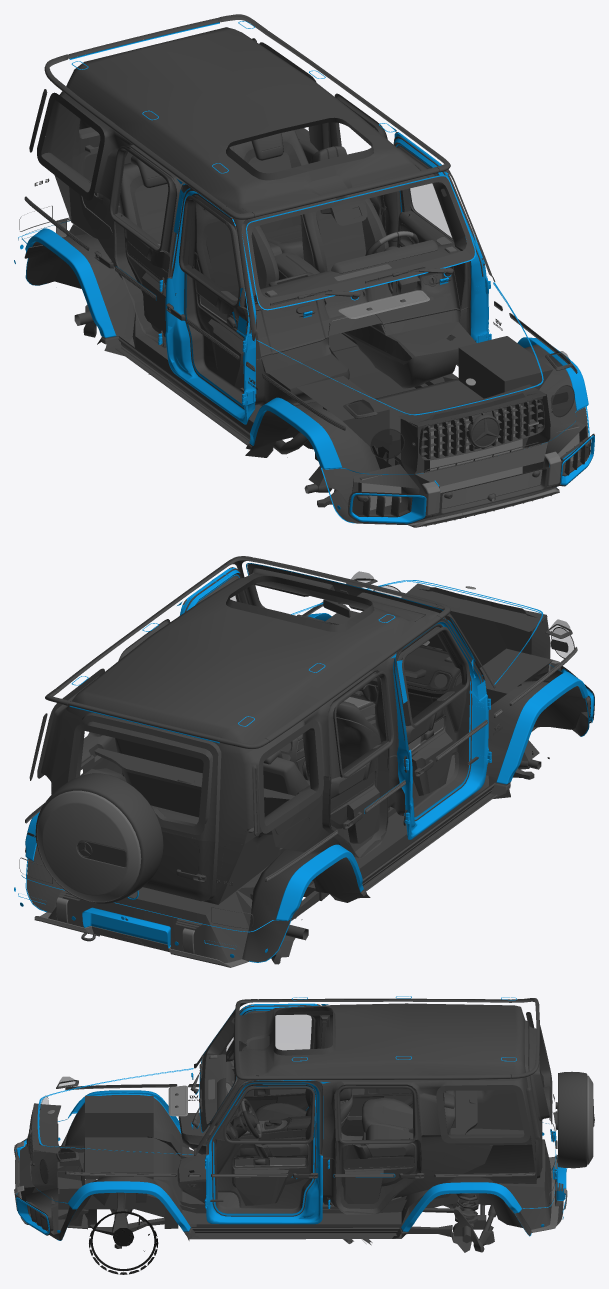
The model's file is Gelik1.glb.
The picture shows the model from 3 angles, top to bottom: view 1: azimuth 30°, elevation 25°; view 2: azimuth 150°, elevation 25°; view 3: azimuth 270°, elevation 25°; orthographic projection. The views are drawn at different scales.
Parts seen in each view (by area): view 1: M:D_Body_33_M:MAT_Details_MAT1_0, M:SM_FrontKit_0000_001_SM_FrontKit_0000_MAT_CarPaint_005_M:M, M:D_Body_30_M:MAT_Details_MAT1_0, M:SM_RearKit_0000_001_SM_RearKit_0000_MAT_CarPaint_008_M:MAT, M:D_Body_20_M:MAT_Details_MAT1_0, M:D_Body_38_M:MAT_Details_MAT1_0, M:D_Body_36_M:MAT_Details_MAT1_0, M:SM_RearKit_0000_001_SM_RearKit_0000_MAT_CarPaint_004_M:MA. (×5), M:D_Body_44_M:MAT_Details_MAT1_0, M:ANC_Door_R_17_M:MAT_Glass1_0.003, M:ANC_Door_R_52_M:MAT_CarPaint_010_0, M:SM_FrontKit_0000_001_SM_FrontKit_0000_MAT_CarPaint_004_M:M (+16 smaller); view 2: M:D_Body_33_M:MAT_Details_MAT1_0, M:SM_RearKit_0000_001_SM_RearKit_0000_MAT_CarPaint_008_M:MAT, M:D_Body_30_M:MAT_Details_MAT1_0, M:D_Body_36_M:MAT_Details_MAT1_0, M:SM_FrontKit_0000_001_SM_FrontKit_0000_MAT_CarPaint_005_M:M, carbon_M:MAT_Carbon1_0.150, M:D_Body_20_M:MAT_Details_MAT1_0, M:SM_RearKit_0000_001_SM_RearKit_0000_MAT_CarPaint_004_M:MA. (×3), M:D_Body_46_M:MAT_Details_MAT1_0, M:D_Body_38_M:MAT_Details_MAT1_0, M:ANC_Door_R_17_M:MAT_Glass1_0.003, M:D_Body_44_M:MAT_Details_MAT1_0 (+12 smaller); view 3: M:SM_RearKit_0000_001_SM_RearKit_0000_MAT_CarPaint_008_M:MAT, M:D_Body_30_M:MAT_Details_MAT1_0, M:D_Body_33_M:MAT_Details_MAT1_0, M:SM_FrontKit_0000_001_SM_FrontKit_0000_MAT_CarPaint_005_M:M, M:SM_Engine_0000_001_SM_Engine_0000_MAT_Details_MAT_001_M:MA, M:D_Body_20_M:MAT_Details_MAT1_0, M:SM_RearKit_0000_001_SM_RearKit_0000_MAT_CarPaint_004_M:MA. (×5), M:D_Body_36_M:MAT_Details_MAT1_0, M:D_Body_44_M:MAT_Details_MAT1_0, M:ANC_Door_L_77_M:MAT_Glass1_0, M:D_Body_38_M:MAT_Details_MAT1_0, M:ANC_Door_L_49_M:MAT_CarPaint_010_0 (+17 smaller).
Part boxes in pixels (bbox=[...]): M:D_Body_33_M:MAT_Details_MAT1_0: bbox=[41, 44, 476, 409]; M:SM_FrontKit_0000_001_SM_FrontKit_0000_MAT_CarPaint_005_M:M: bbox=[254, 313, 594, 524]; M:D_Body_30_M:MAT_Details_MAT1_0: bbox=[79, 27, 476, 374]; M:SM_RearKit_0000_001_SM_RearKit_0000_MAT_CarPaint_008_M:MAT: bbox=[19, 14, 502, 457]; M:D_Body_20_M:MAT_Details_MAT1_0: bbox=[71, 97, 468, 409]; M:D_Body_38_M:MAT_Details_MAT1_0: bbox=[65, 131, 474, 406]; M:D_Body_36_M:MAT_Details_MAT1_0: bbox=[41, 91, 468, 406]; M:SM_RearKit_0000_001_SM_RearKit_0000_MAT_CarPaint_004_M:MA. (×5): bbox=[25, 175, 588, 523]; M:D_Body_44_M:MAT_Details_MAT1_0: bbox=[72, 133, 438, 279]; M:ANC_Door_R_17_M:MAT_Glass1_0.003: bbox=[182, 200, 238, 303]; M:ANC_Door_R_52_M:MAT_CarPaint_010_0: bbox=[165, 191, 247, 424]; M:SM_FrontKit_0000_001_SM_FrontKit_0000_MAT_CarPaint_004_M:M: bbox=[361, 406, 579, 510]; M:D_Body_33_M:MAT_Details_MAT1_0: bbox=[51, 576, 472, 904]; M:SM_RearKit_0000_001_SM_RearKit_0000_MAT_CarPaint_008_M:MAT: bbox=[19, 556, 510, 962]; M:D_Body_30_M:MAT_Details_MAT1_0: bbox=[66, 568, 460, 858]; M:D_Body_36_M:MAT_Details_MAT1_0: bbox=[41, 577, 471, 894]; M:SM_FrontKit_0000_001_SM_FrontKit_0000_MAT_CarPaint_005_M:M: bbox=[302, 578, 594, 778]; carbon_M:MAT_Carbon1_0.150: bbox=[39, 793, 137, 902]; M:D_Body_20_M:MAT_Details_MAT1_0: bbox=[68, 572, 470, 904]; M:SM_RearKit_0000_001_SM_RearKit_0000_MAT_CarPaint_004_M:MA. (×3): bbox=[82, 672, 588, 948]; M:D_Body_46_M:MAT_Details_MAT1_0: bbox=[37, 668, 323, 901]; M:D_Body_38_M:MAT_Details_MAT1_0: bbox=[146, 564, 471, 904]; M:ANC_Door_R_17_M:MAT_Glass1_0.003: bbox=[404, 631, 466, 723]; M:D_Body_44_M:MAT_Details_MAT1_0: bbox=[83, 672, 388, 903]; M:SM_RearKit_0000_001_SM_RearKit_0000_MAT_CarPaint_008_M:MAT: bbox=[182, 998, 594, 1245]; M:D_Body_30_M:MAT_Details_MAT1_0: bbox=[177, 1007, 550, 1216]; M:D_Body_33_M:MAT_Details_MAT1_0: bbox=[178, 1003, 549, 1214]; M:SM_FrontKit_0000_001_SM_FrontKit_0000_MAT_CarPaint_005_M:M: bbox=[15, 1080, 182, 1240]; M:SM_Engine_0000_001_SM_Engine_0000_MAT_Details_MAT_001_M:MA: bbox=[57, 1136, 496, 1252]; M:D_Body_20_M:MAT_Details_MAT1_0: bbox=[178, 1009, 552, 1214]; M:SM_RearKit_0000_001_SM_RearKit_0000_MAT_CarPaint_004_M:MA. (×5): bbox=[16, 1068, 521, 1234]; M:D_Body_36_M:MAT_Details_MAT1_0: bbox=[219, 1008, 544, 1174]; M:D_Body_44_M:MAT_Details_MAT1_0: bbox=[217, 1078, 536, 1183]; M:ANC_Door_L_77_M:MAT_Glass1_0: bbox=[226, 1089, 311, 1140]; M:D_Body_38_M:MAT_Details_MAT1_0: bbox=[178, 1010, 541, 1203]; M:ANC_Door_L_49_M:MAT_CarPaint_010_0: bbox=[206, 1082, 322, 1224].
Size of the model in its own units: 2 by 1.86 by 4.93.
